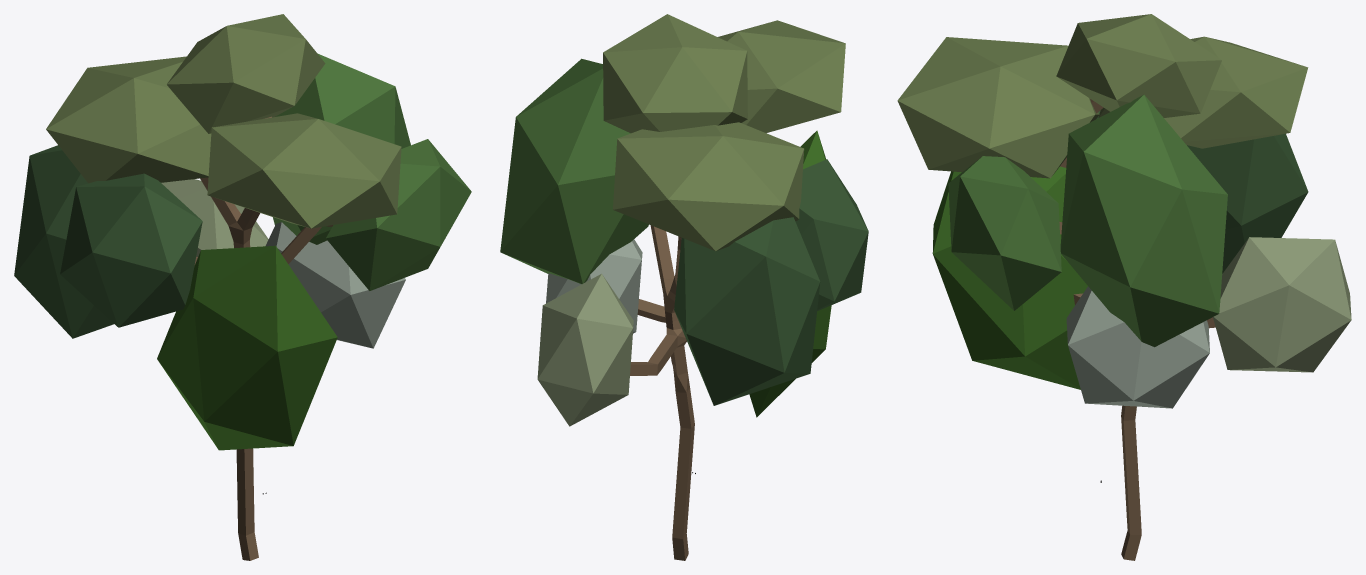
File: tree1.glb
The picture shows the model from 3 angles, left to right: view 1: azimuth 30°, elevation 25°; view 2: azimuth 150°, elevation 25°; view 3: azimuth 270°, elevation 25°; orthographic projection. The views are drawn at different scales.
Visible parts, largest first — view 1: Stem; view 2: Stem; view 3: Stem.
Part boxes in pixels (x1,y1,x2,y2): Stem: [14, 14, 471, 560]; Stem: [500, 14, 868, 560]; Stem: [897, 14, 1351, 560].
Size of the model in its own units: 4.51 by 6.67 by 5.09.
